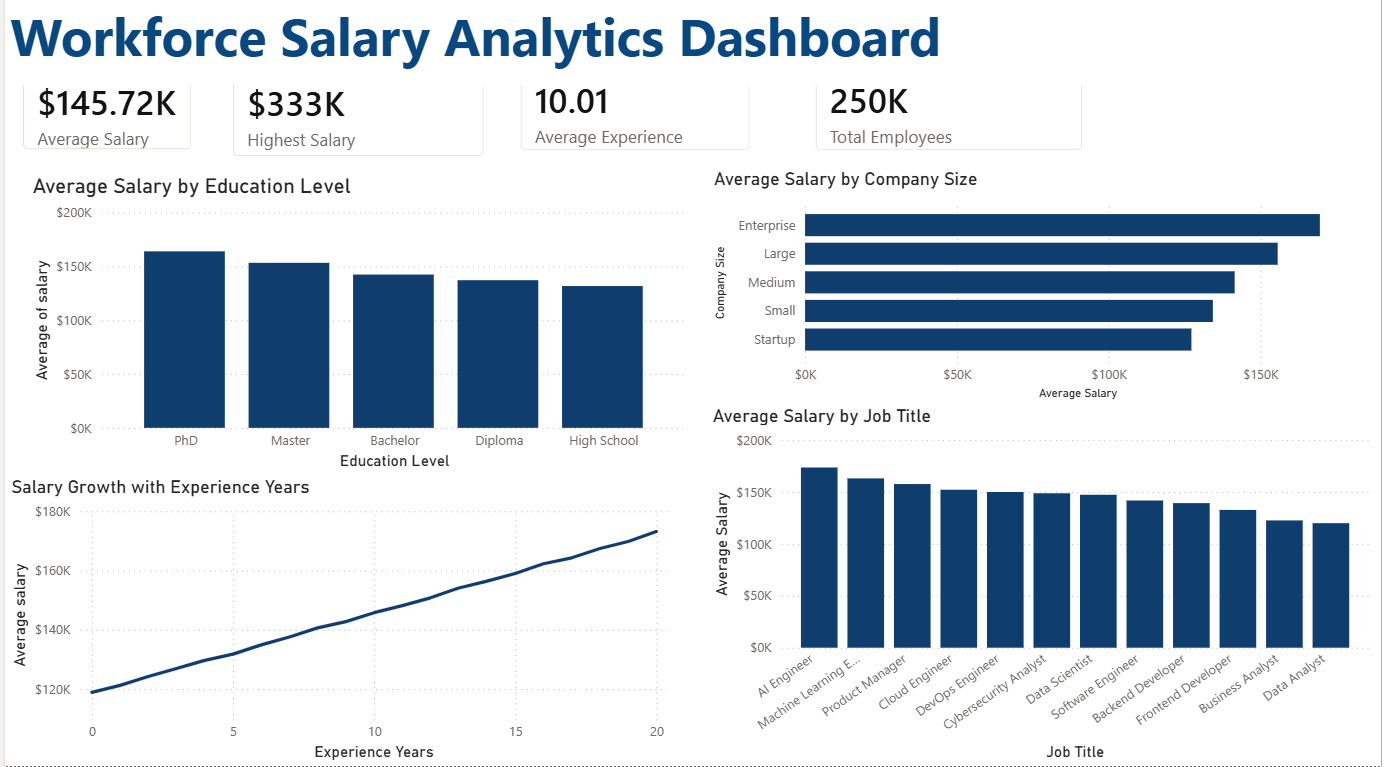

Layout of this report page (visuals, bound fields, positions):
{"tool":"powerbi","page":{"name":"Executive Overview","canvas":[1280,720],"ordinal":0},"visuals":[{"type":"cardVisual","fields":{"Data":["Avg(job_salary_prediction_dataset.salary)"]},"box":[0,60.5,190.7,103.5],"z":0},{"type":"cardVisual","fields":{"Data":["Max(job_salary_prediction_dataset.salary)"]},"box":[195.5,55.7,267.5,114],"z":1000},{"type":"cardVisual","fields":{"Data":["Avg(job_salary_prediction_dataset.experience_years)"]},"box":[463,57,247.1,107.3],"z":2000},{"type":"cardVisual","fields":{"Data":["CountNonNull(job_salary_prediction_dataset.salary)"]},"box":[737.2,57,282.4,107.3],"z":3000},{"type":"textbox","box":[0,2.7,1242.3,84.2],"z":4000},{"type":"clusteredColumnChart","title":"Average Salary by Education Level","fields":{"Category":["job_salary_prediction_dataset.education_level"],"Y":["Avg(job_salary_prediction_dataset.salary)"]},"box":[20.4,169.7,619.1,279.7],"z":5000},{"type":"clusteredBarChart","title":"Average Salary by Company Size","fields":{"Category":["job_salary_prediction_dataset.company_size"],"Y":["Avg(job_salary_prediction_dataset.salary)"]},"box":[655,163.8,620,220],"z":6000},{"type":"lineChart","title":"Salary Growth with Experience Years","fields":{"Category":["job_salary_prediction_dataset.experience_years"],"Y":["Avg(job_salary_prediction_dataset.salary)"]},"box":[1.2,450,620,270],"z":7000},{"type":"columnChart","fields":{"Category":["job_salary_prediction_dataset.job_title"],"Y":["Avg(job_salary_prediction_dataset.salary)"]},"box":[653.8,383.8,620,336.2],"z":8000}]}

Visuals, with their boxes in screenshot pixels (x1, y1, x2, y2), scaled from the page's 1280x720 canvas onto the 1385x767 screenshot:
cardVisual - Avg(job_salary_prediction_dataset.salary): (0, 64, 206, 175)
cardVisual - Max(job_salary_prediction_dataset.salary): (212, 59, 501, 181)
cardVisual - Avg(job_salary_prediction_dataset.experience_years): (501, 61, 768, 175)
cardVisual - CountNonNull(job_salary_prediction_dataset.salary): (798, 61, 1103, 175)
textbox: (0, 3, 1344, 93)
"Average Salary by Education Level" clusteredColumnChart: (22, 181, 692, 479)
"Average Salary by Company Size" clusteredBarChart: (709, 174, 1380, 409)
"Salary Growth with Experience Years" lineChart: (1, 479, 672, 766)
columnChart - job_salary_prediction_dataset.job_title x Avg(job_salary_prediction_dataset.salary): (707, 409, 1378, 766)
